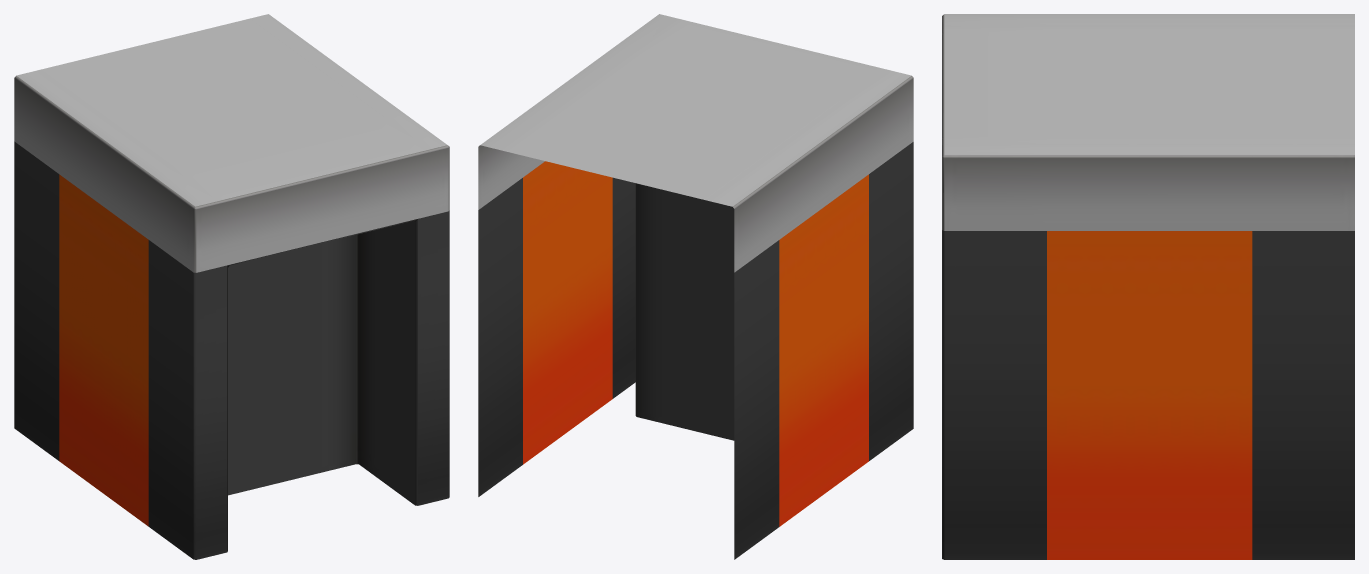
File: Metal Conveyor.fbx
The picture shows the model from 3 angles, left to right: view 1: azimuth 30°, elevation 25°; view 2: azimuth 150°, elevation 25°; view 3: azimuth 270°, elevation 25°; orthographic projection. The views are drawn at different scales.
Visible parts, largest first — view 1: Metal Conveyor; view 2: Metal Conveyor; view 3: Metal Conveyor.
Part boxes in pixels (x1,y1,x2,y2): Metal Conveyor: (14,14,449,559); Metal Conveyor: (478,14,913,559); Metal Conveyor: (942,14,1354,559).
Bounding box in the file's own units: 615 × 809 × 750.
